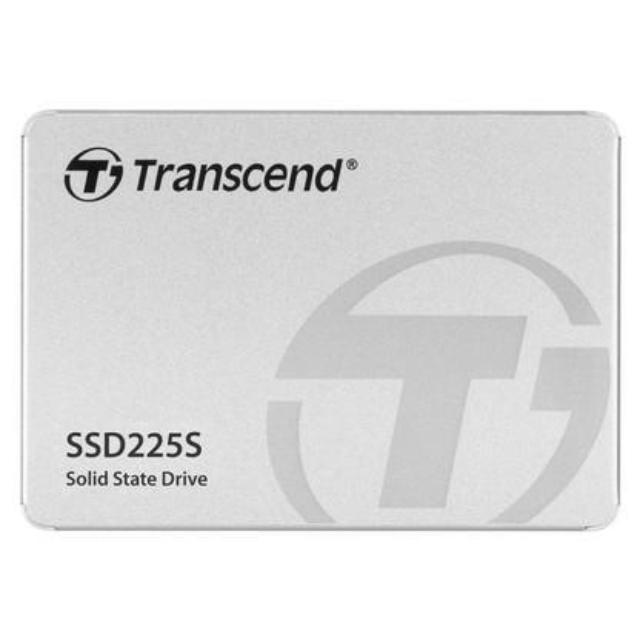DISK: (14, 104, 628, 536)
